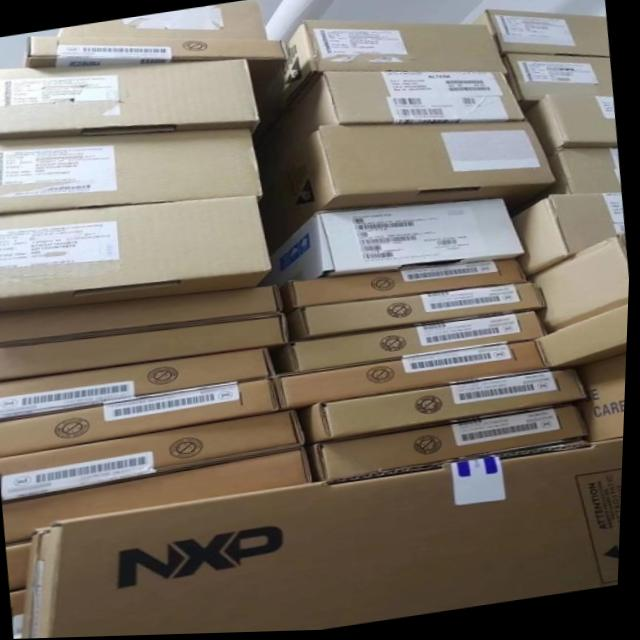box: (27, 444, 627, 639), (261, 122, 559, 252), (0, 197, 273, 312), (9, 448, 317, 540), (2, 410, 305, 501), (257, 74, 532, 160), (302, 367, 590, 444), (271, 21, 510, 113), (22, 37, 290, 119), (307, 404, 595, 480), (0, 132, 262, 214), (0, 58, 261, 140), (4, 380, 279, 457), (268, 199, 528, 280), (0, 313, 292, 383), (0, 346, 277, 416), (269, 344, 553, 407), (0, 284, 283, 345), (294, 313, 546, 373), (286, 282, 547, 339), (282, 259, 532, 309), (537, 240, 629, 338), (57, 2, 266, 41), (517, 197, 620, 276), (549, 150, 626, 248), (464, 13, 609, 60), (503, 54, 612, 110), (543, 307, 630, 367), (533, 93, 617, 155), (578, 355, 629, 446), (9, 536, 35, 591), (14, 587, 29, 639)
